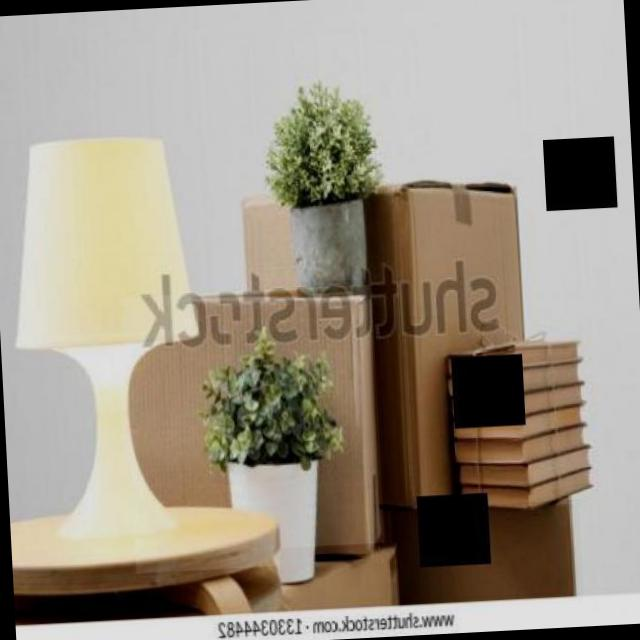box: (122, 284, 386, 574), (368, 175, 533, 502), (390, 499, 584, 610), (279, 542, 400, 612)
